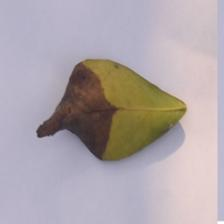black spot: (27, 63, 118, 153)
